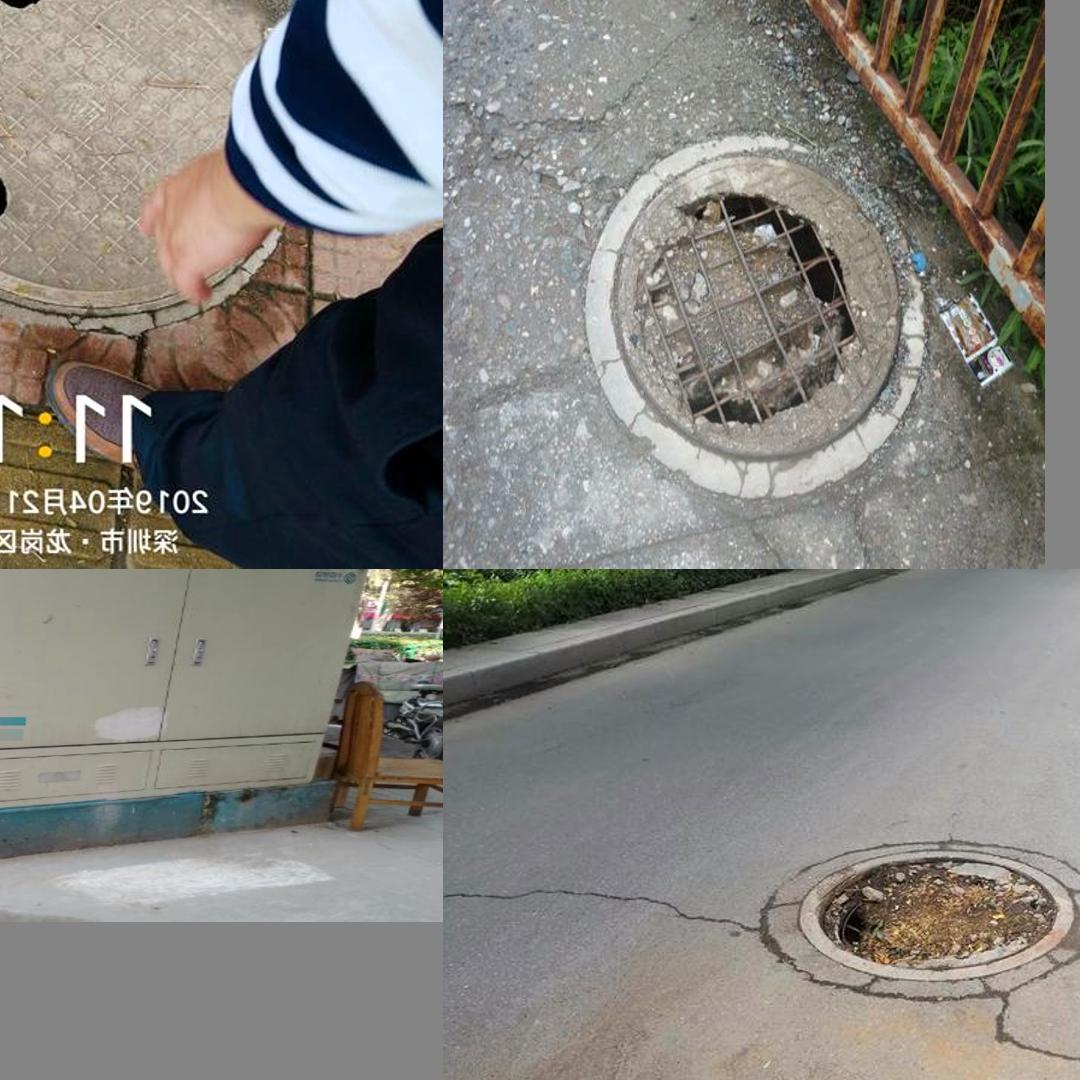broke: (576, 142, 916, 503), (0, 0, 335, 349), (740, 816, 1080, 1012)
